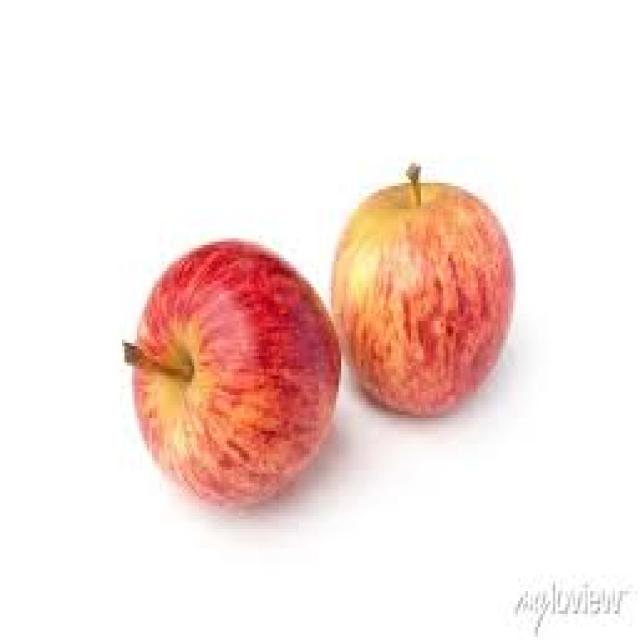non_orange: (100, 213, 353, 538), (304, 146, 533, 457)
